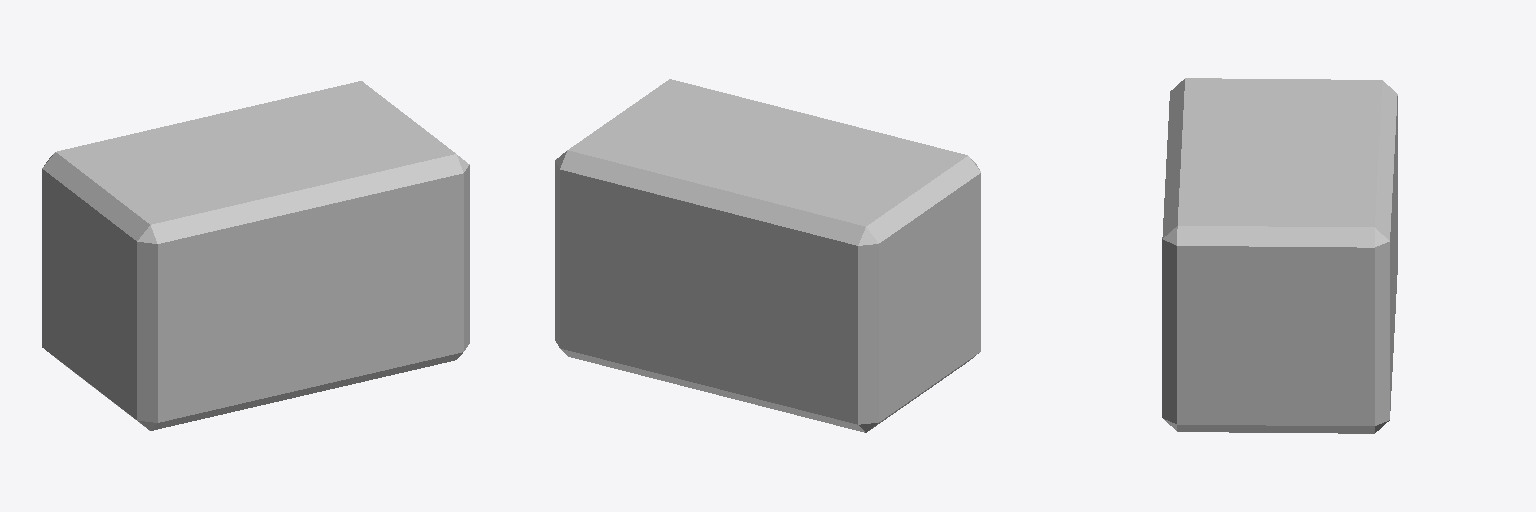
Rendered from SingleBrick.obj.
The picture shows the model from 3 angles: view 1: azimuth 30°, elevation 25°; view 2: azimuth 150°, elevation 25°; view 3: azimuth 270°, elevation 25°; orthographic projection.
Parts seen in each view (by area): view 1: Cube.300; view 2: Cube.300; view 3: Cube.300.
Part boxes in pixels (x1,y1,x2,y2): Cube.300: (42,81,469,430); Cube.300: (555,79,980,432); Cube.300: (1162,78,1397,433).
Bounding box in the file's own units: 0.2528 × 0.15 × 0.155.